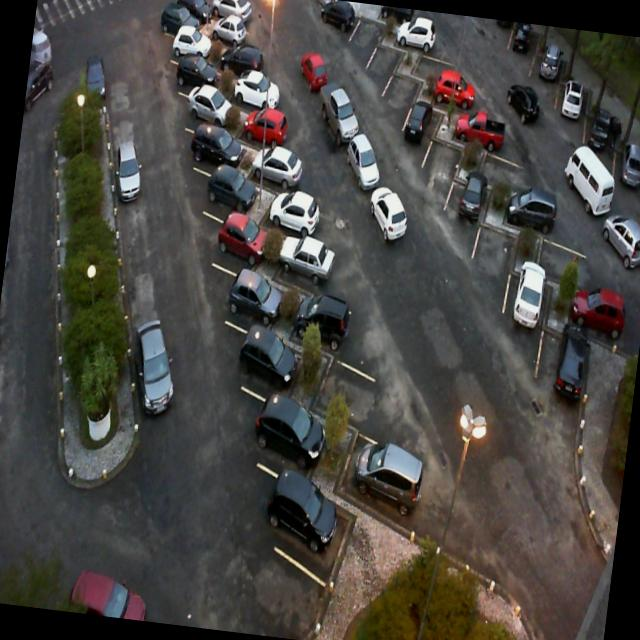car: (262, 467, 341, 554), (351, 438, 428, 518), (126, 315, 182, 416), (252, 392, 328, 466), (560, 142, 620, 218), (67, 569, 150, 621), (290, 292, 356, 354), (238, 323, 302, 386), (202, 162, 262, 225), (550, 322, 590, 411), (223, 264, 282, 324), (564, 284, 628, 339), (212, 209, 268, 266), (247, 140, 307, 193), (24, 27, 60, 114), (314, 86, 362, 151), (503, 260, 546, 332), (190, 122, 248, 170), (595, 211, 640, 272), (502, 188, 558, 237), (268, 188, 322, 238), (450, 103, 506, 151), (343, 130, 386, 192), (364, 187, 409, 246), (237, 104, 289, 152), (285, 232, 335, 281), (110, 138, 148, 202), (187, 85, 237, 132), (229, 67, 281, 111), (169, 24, 214, 70), (453, 172, 490, 226), (432, 69, 478, 111), (198, 10, 249, 46), (502, 83, 543, 127), (174, 54, 218, 94), (23, 61, 54, 116), (220, 42, 264, 80), (79, 52, 110, 104), (396, 13, 438, 51), (398, 94, 431, 141), (159, 2, 202, 38), (296, 52, 332, 94), (538, 38, 568, 88), (584, 100, 612, 148), (319, 0, 359, 32), (508, 22, 536, 62), (559, 80, 584, 120), (208, 0, 253, 22), (620, 138, 640, 187), (30, 32, 54, 62), (175, 0, 211, 18)
